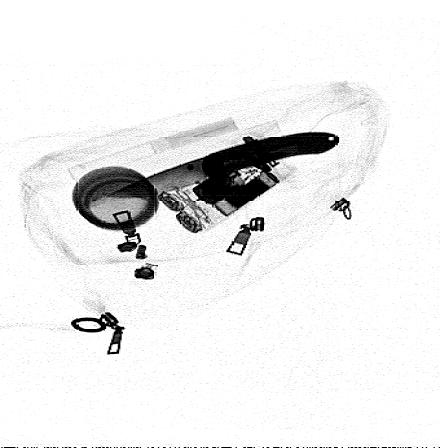Knife: (115, 131, 339, 196)
